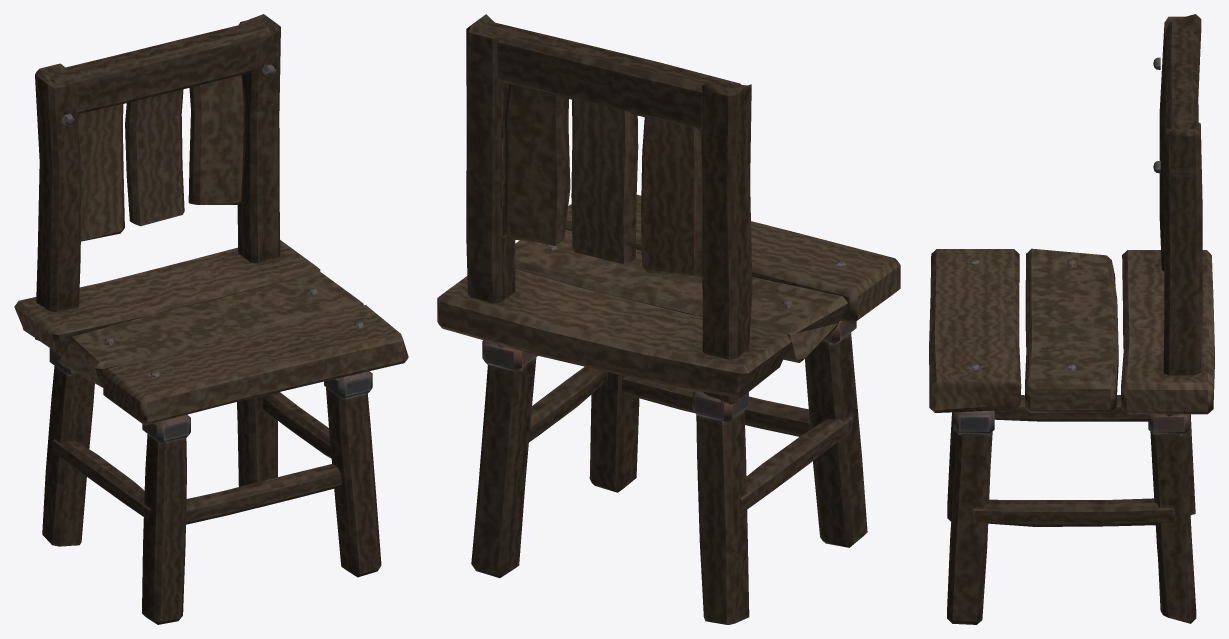
The model's file is chair.glb.
3 views of the same model, side by side, from view 1: azimuth 30°, elevation 25°; view 2: azimuth 150°, elevation 25°; view 3: azimuth 270°, elevation 25° (orthographic). The views are drawn at different scales.
Parts seen in each view (by area): view 1: chair; view 2: chair; view 3: chair.
Part boxes in pixels (x1,y1,x2,y2): chair: [14, 14, 408, 624]; chair: [437, 14, 900, 624]; chair: [929, 14, 1214, 624].
Size of the model in its own units: 0.4745 by 0.7959 by 0.4135.
1 material, 1 textured.
